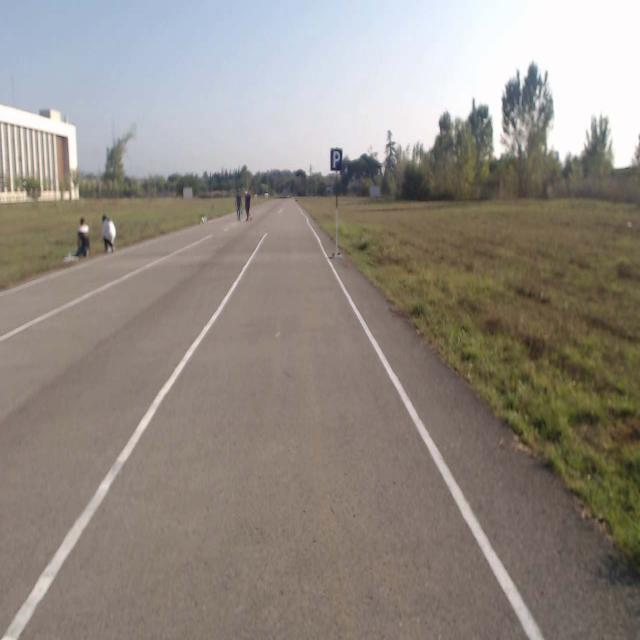park: (330, 148, 342, 170)
